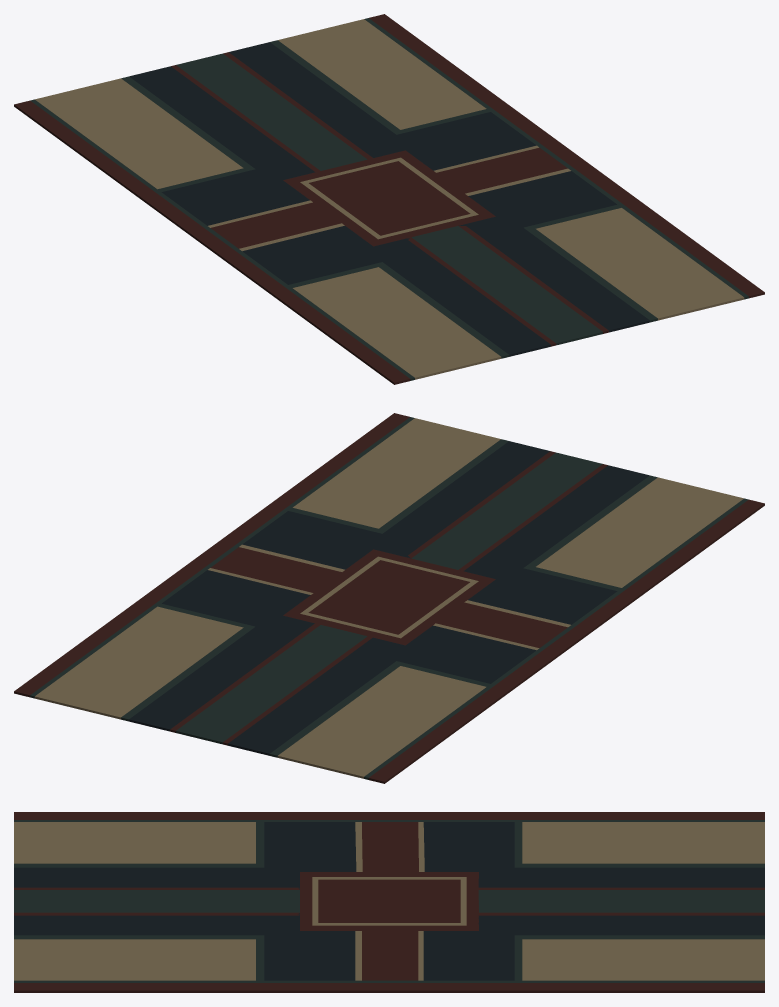
File: Carpet_001.fbx
The picture shows the model from 3 angles, top to bottom: view 1: azimuth 30°, elevation 25°; view 2: azimuth 150°, elevation 25°; view 3: azimuth 270°, elevation 25°; orthographic projection.
Parts seen in each view (by area): view 1: carpet_001; view 2: carpet_001; view 3: carpet_001.
Boxes of the visible parts, x1=… form: carpet_001: x1=14, y1=14, x2=764, y2=384; carpet_001: x1=14, y1=413, x2=764, y2=783; carpet_001: x1=14, y1=812, x2=764, y2=992.
Size of the model in its own units: 225 by 1.23 by 400.
